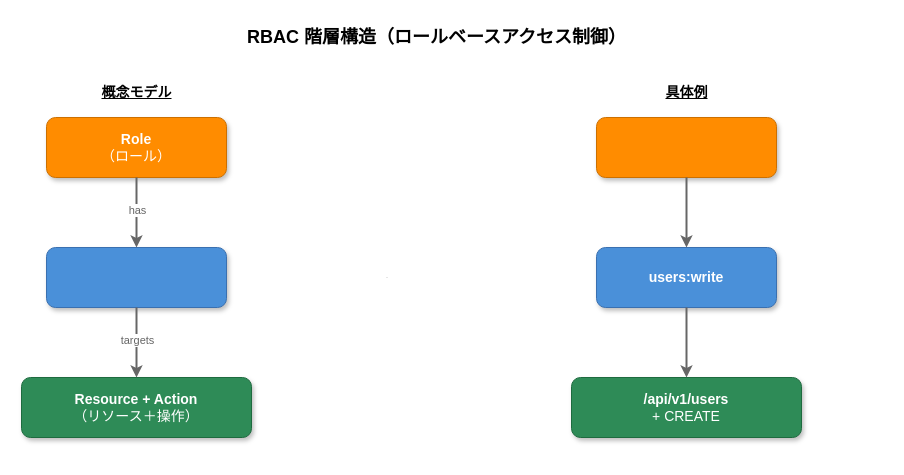
This 904x475 diagram has some shape labels left out. Each missing label, with the centre of its shape:
Permission （権限）: point 137,278
sys_admin: point 687,148
